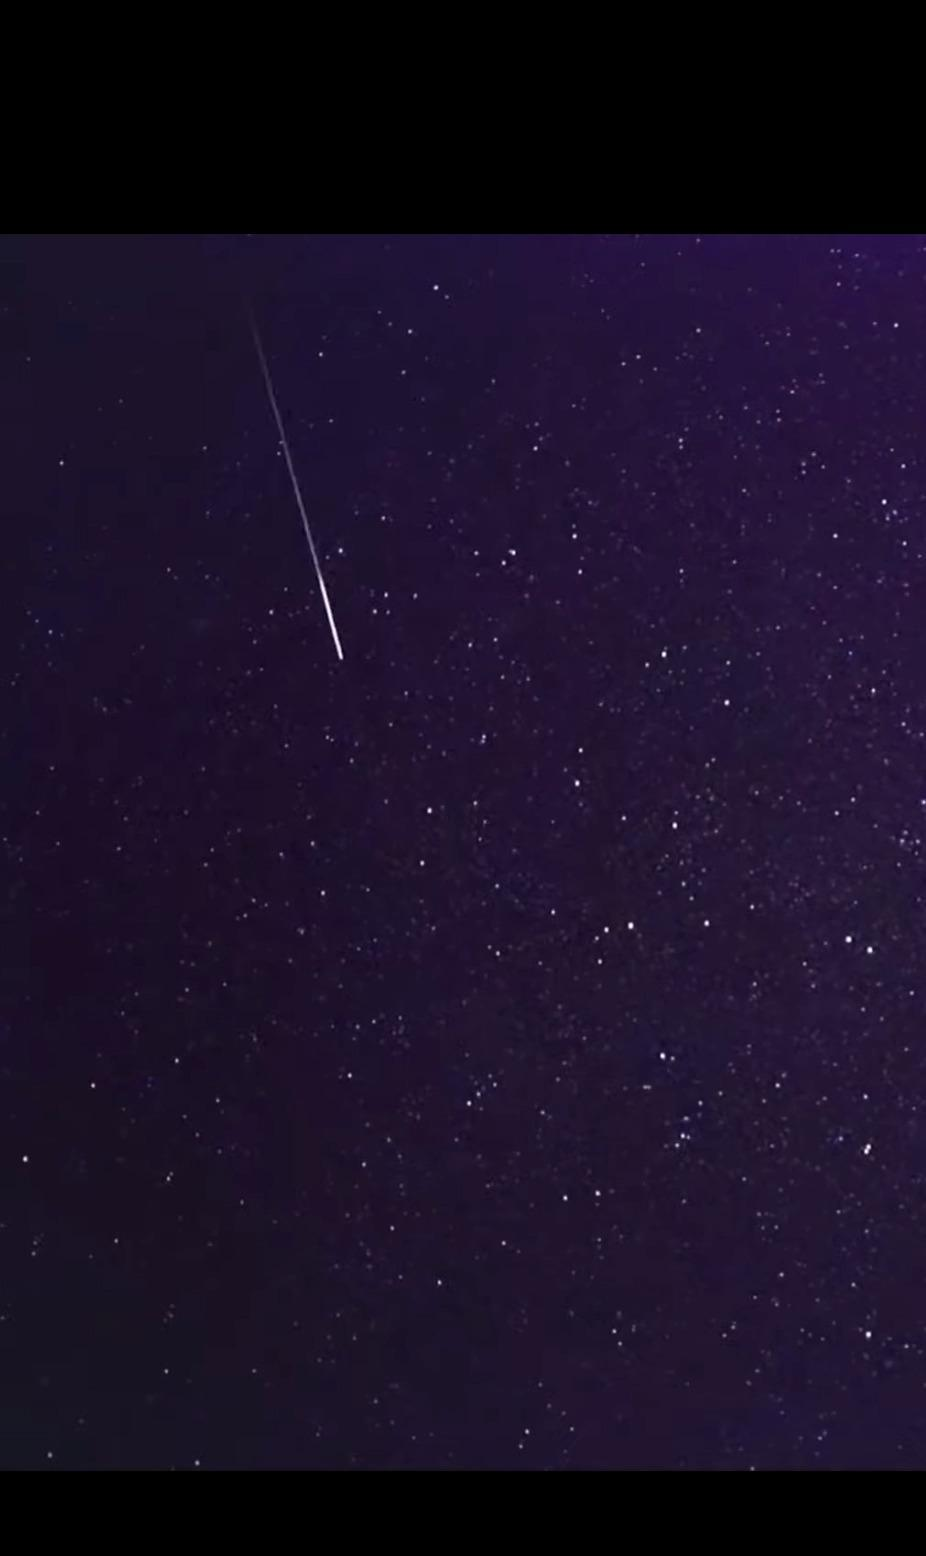meteorite: (190, 283, 364, 676)
